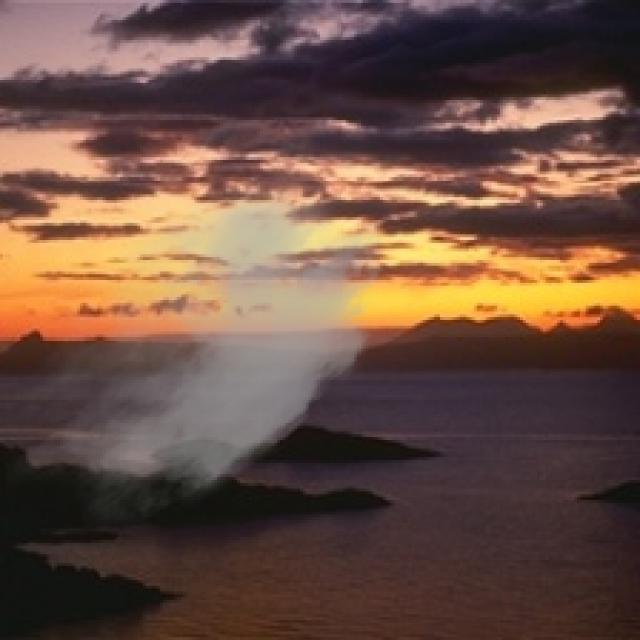Smoke: (6, 160, 397, 534)
